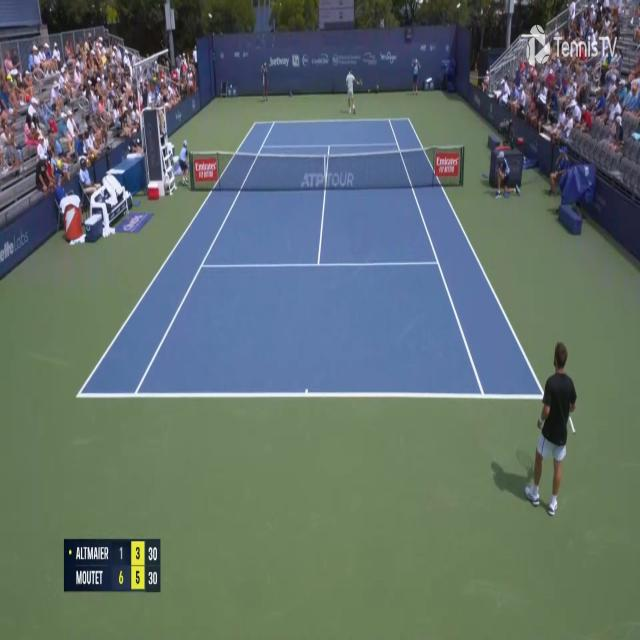tennis-player: (526, 335, 579, 518), (345, 67, 359, 114)
